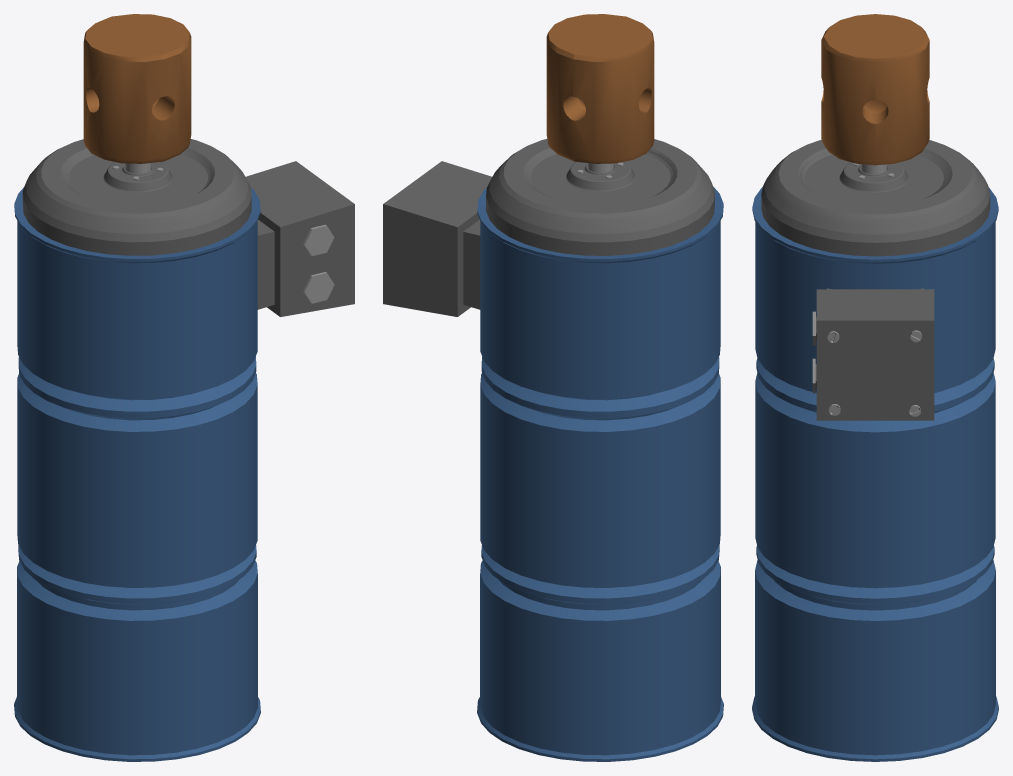
File: Wood_smooth.fbx
3 renders of one model, left to right at view 1: azimuth 30°, elevation 25°; view 2: azimuth 150°, elevation 25°; view 3: azimuth 270°, elevation 25°, orthographic.
Visible parts, largest first — view 1: BarrelAndEngine, Holder3, Motorbloc; view 2: BarrelAndEngine, Holder3, Motorbloc; view 3: BarrelAndEngine, Motorbloc, Holder3.
Boxes of the visible parts, left/top/right/bottom form: BarrelAndEngine: left=14, top=139, right=260, bottom=761; Holder3: left=83, top=14, right=191, bottom=163; Motorbloc: left=245, top=161, right=354, bottom=316; BarrelAndEngine: left=477, top=139, right=723, bottom=761; Holder3: left=546, top=14, right=654, bottom=163; Motorbloc: left=383, top=161, right=491, bottom=316; BarrelAndEngine: left=752, top=139, right=998, bottom=761; Motorbloc: left=812, top=288, right=934, bottom=420; Holder3: left=821, top=14, right=929, bottom=165.
Size of the model in its own units: 285 by 617 by 205.
